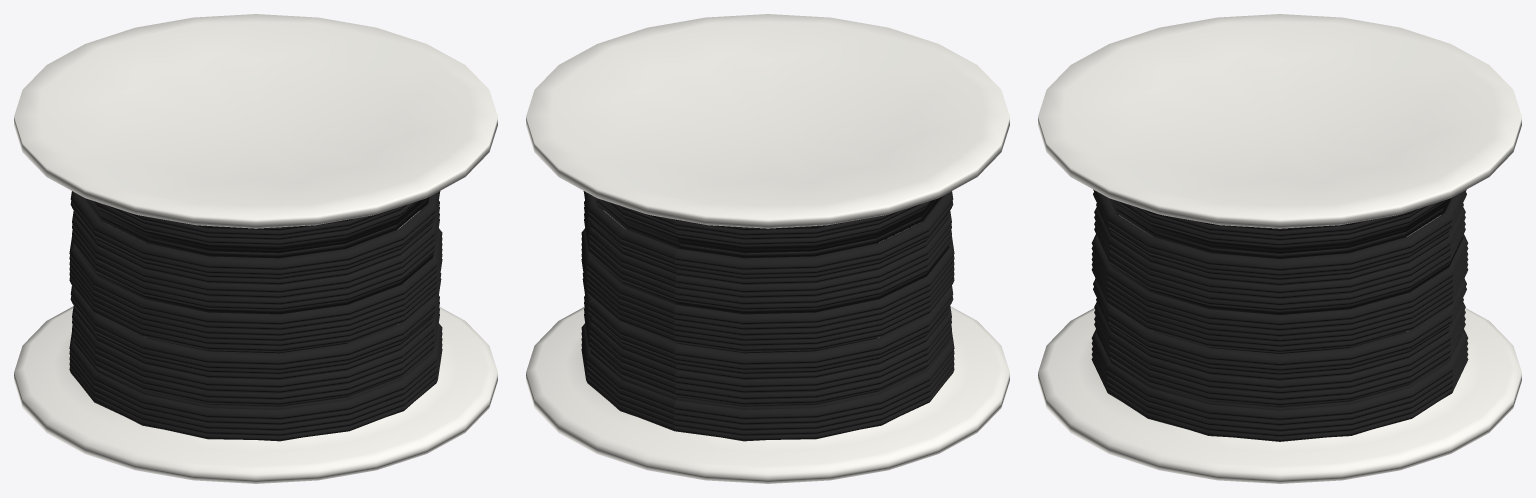
Rendered from BlackWireYoyo.fbx.
3 views of the same model, side by side, from view 1: azimuth 30°, elevation 25°; view 2: azimuth 150°, elevation 25°; view 3: azimuth 270°, elevation 25° (orthographic).
Parts seen in each view (by area): view 1: pCylinder2; view 2: pCylinder2; view 3: pCylinder2.
Part boxes in pixels (box(x1,y1,x2,y2)): pCylinder2: box(14, 14, 497, 483); pCylinder2: box(526, 14, 1009, 483); pCylinder2: box(1038, 14, 1521, 483).
Size of the model in its own units: 898 by 555 by 898.
